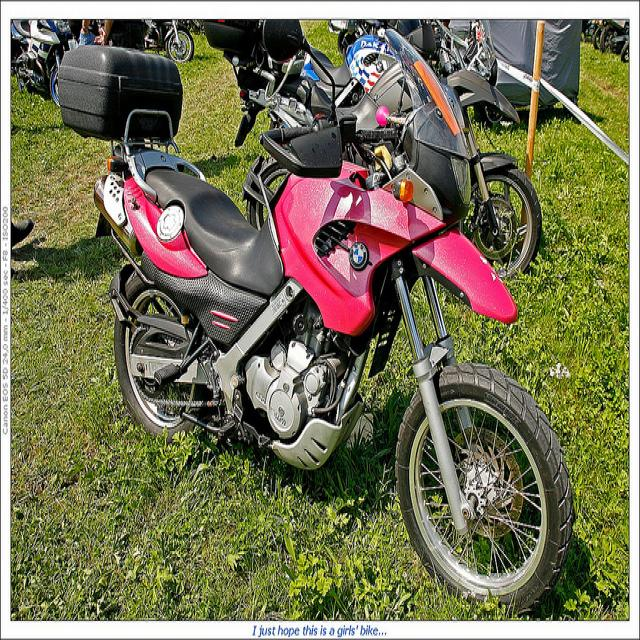motor: (100, 33, 567, 607), (415, 29, 545, 274), (8, 23, 75, 108), (110, 18, 195, 64)
